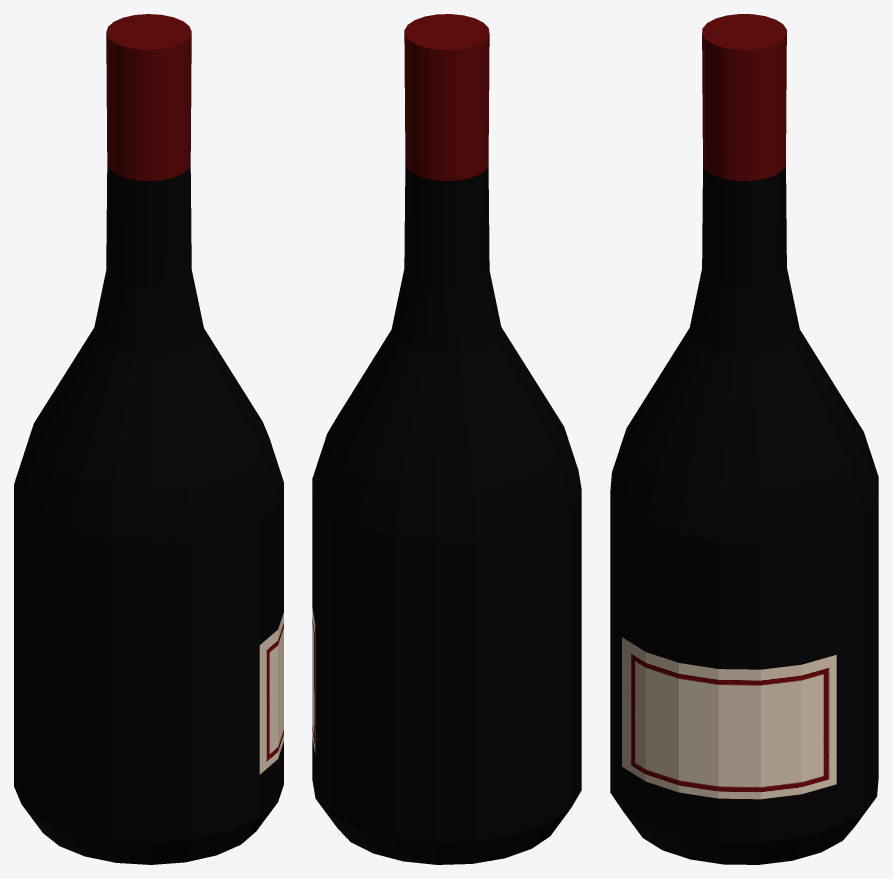
Rendered from wineBottleShort.fbx.
3 views of the same model, side by side, from view 1: azimuth 30°, elevation 25°; view 2: azimuth 150°, elevation 25°; view 3: azimuth 270°, elevation 25° (orthographic).
Parts seen in each view (by area): view 1: WineBottleFat:pCylinder1; view 2: WineBottleFat:pCylinder1; view 3: WineBottleFat:pCylinder1.
Boxes of the visible parts, x1=… form: WineBottleFat:pCylinder1: x1=14, y1=14, x2=283, y2=864; WineBottleFat:pCylinder1: x1=312, y1=14, x2=581, y2=864; WineBottleFat:pCylinder1: x1=610, y1=14, x2=878, y2=864.
Bounding box in the file's own units: 0.7423 × 2.4 × 0.7423.
Materials: 3 (1 with a texture image).
